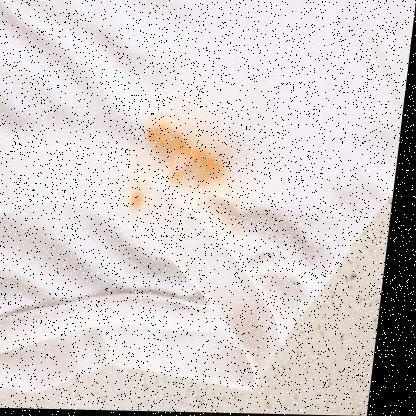kimchi: (145, 128, 227, 192), (127, 184, 159, 214)
